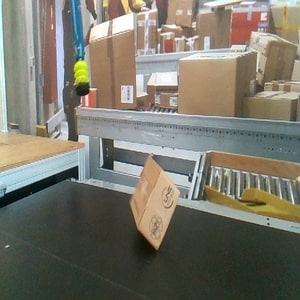box: (129, 154, 182, 251)
